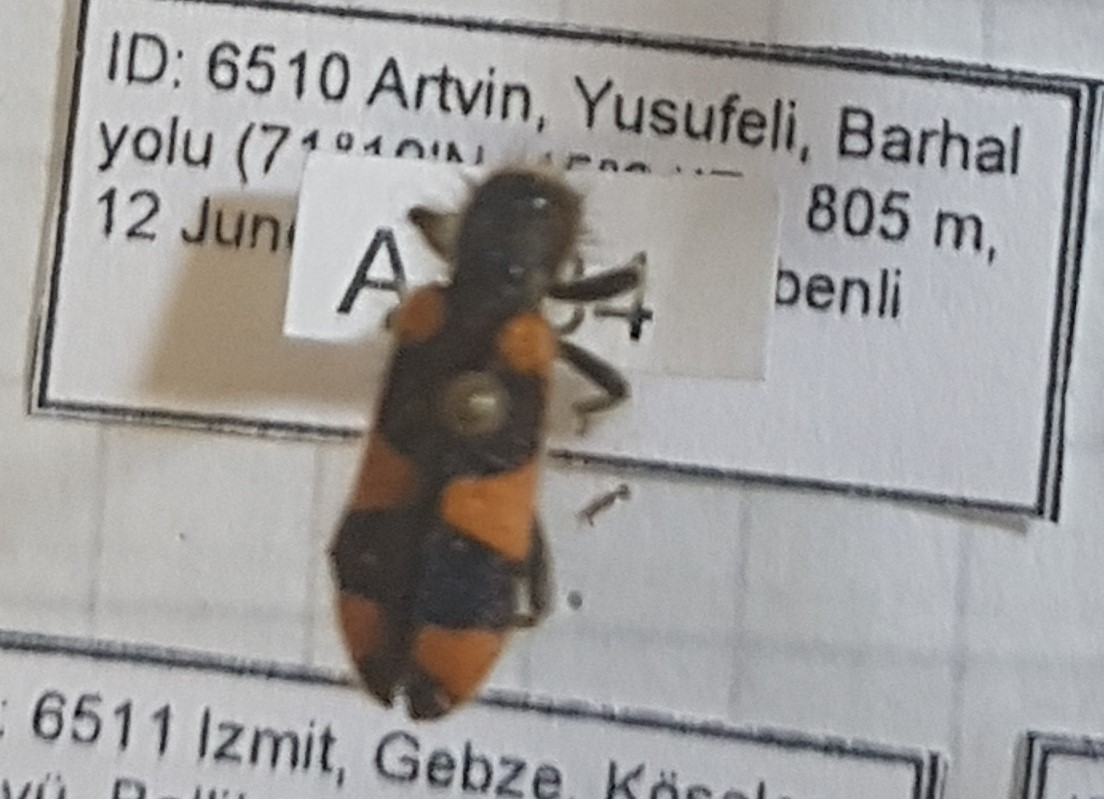trichodes_holtzi: (318, 157, 642, 733)
